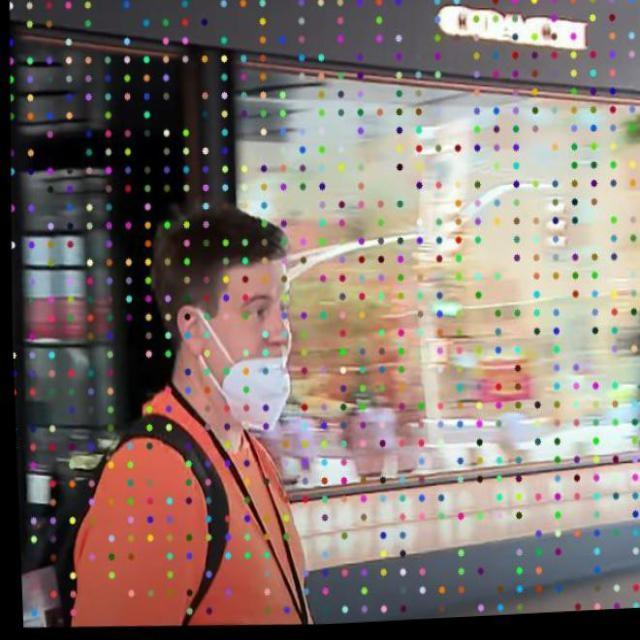hairnet: (217, 288, 292, 438)
